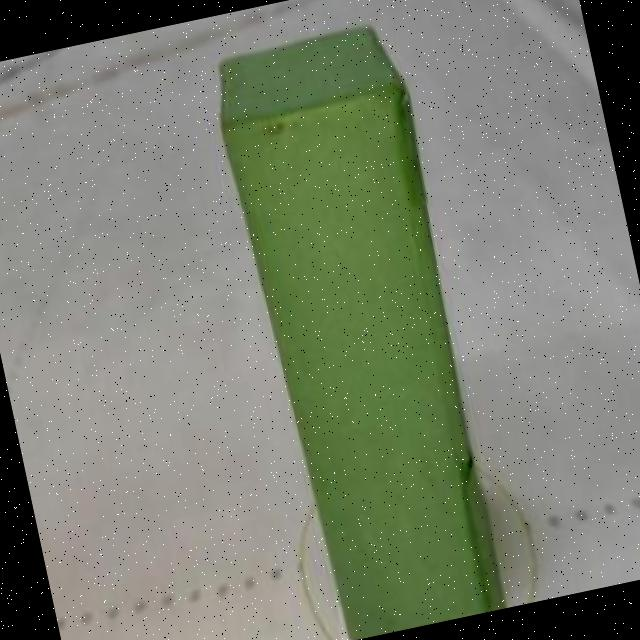greenbox: (201, 14, 520, 640)
